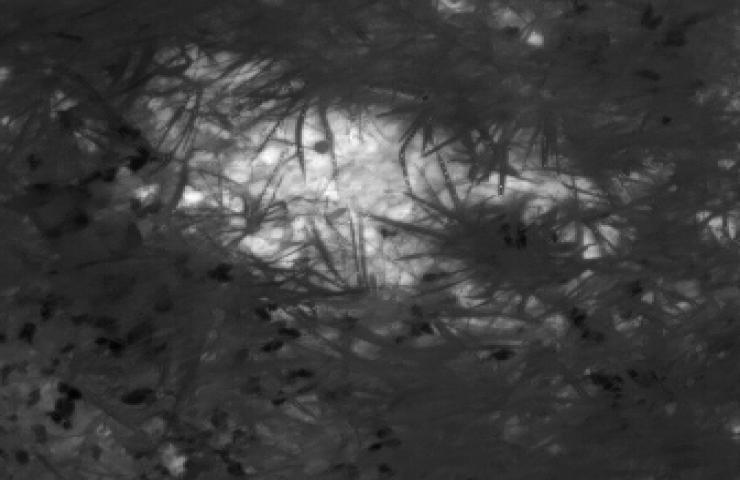landmines: (142, 46, 486, 289)
